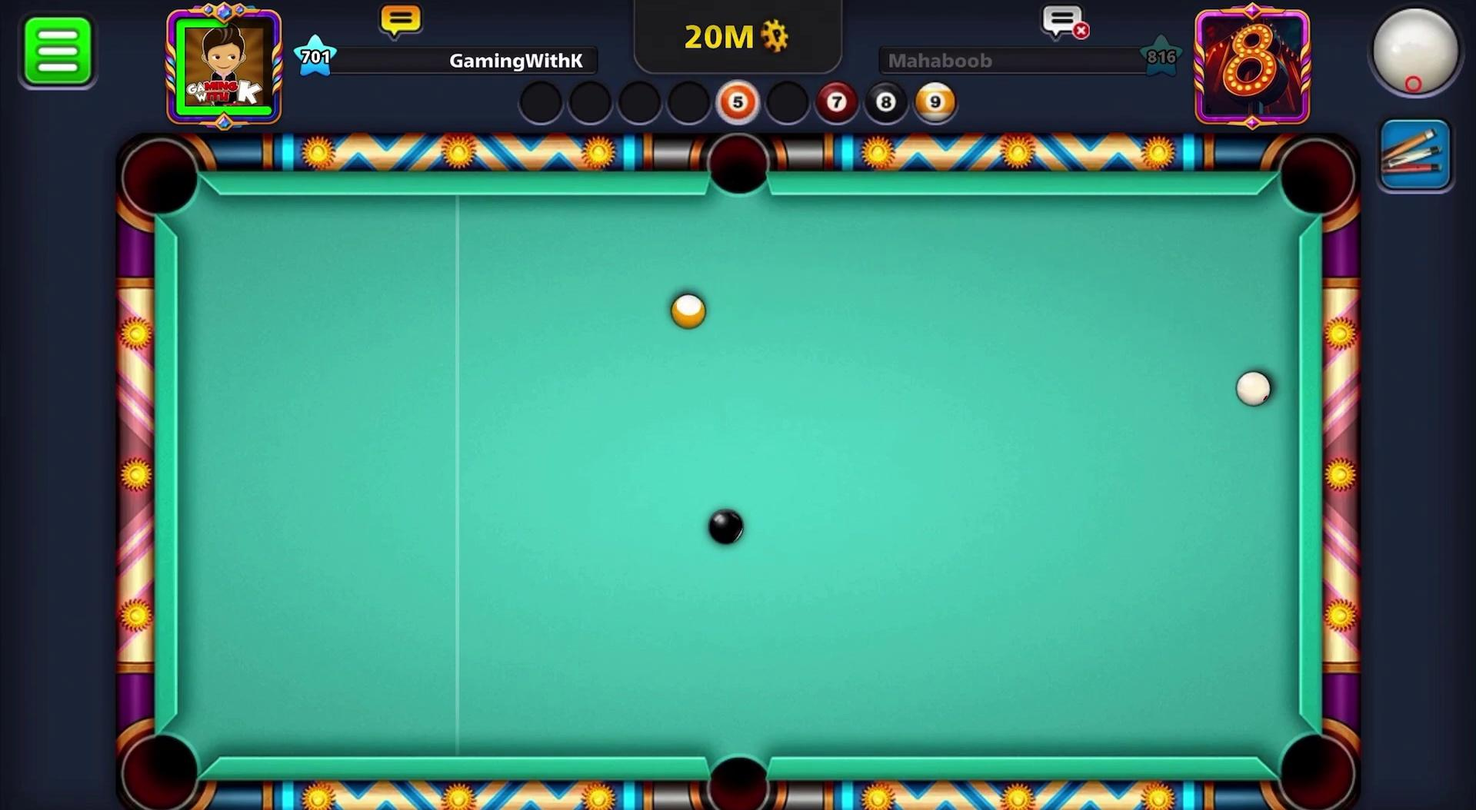Ball: (665, 287, 710, 335), (705, 503, 742, 549)
Hole: (116, 127, 218, 225), (1265, 719, 1372, 810), (113, 720, 220, 807), (1264, 137, 1366, 226), (689, 729, 786, 810), (701, 125, 790, 213)
Play_Area: (178, 195, 1298, 758)
White: (1233, 358, 1280, 419)
